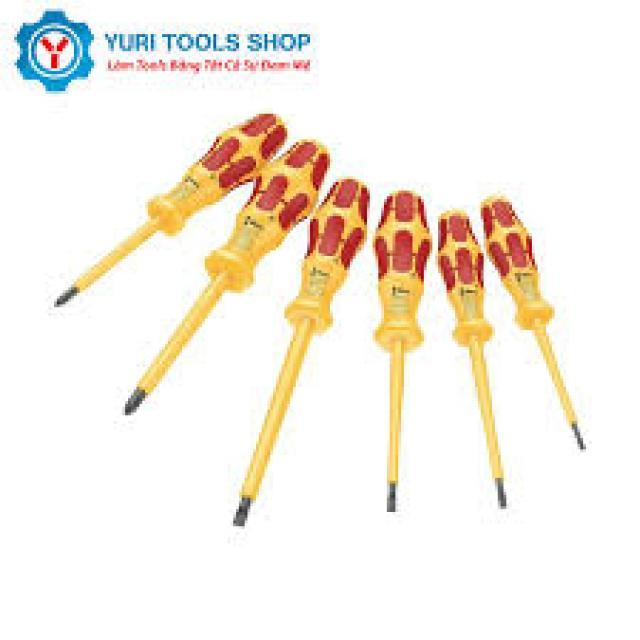screwdriver: (123, 134, 334, 418), (226, 173, 371, 532), (44, 108, 289, 310), (475, 188, 595, 458), (434, 208, 508, 518), (368, 185, 437, 510)
